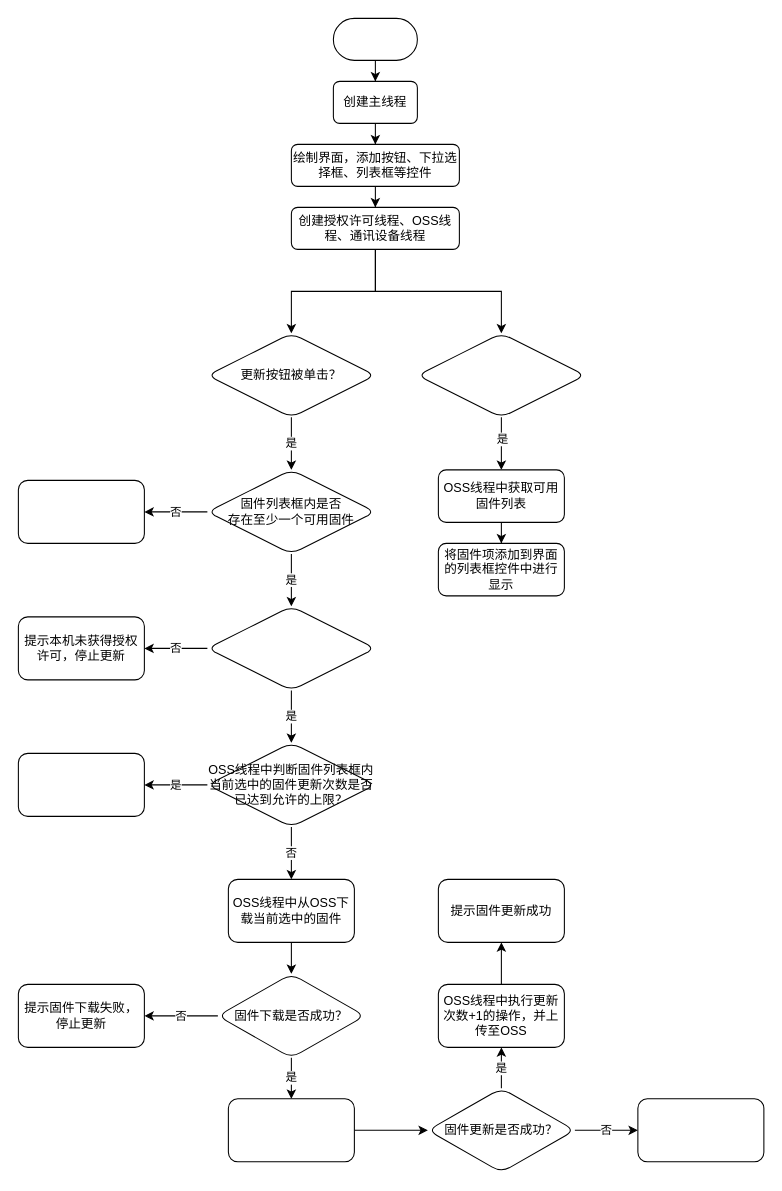
The diagram is 782 pixels wide and 1191 high, and some of its shapes have lost their labels. The shapes that lost their labels are listed below. From the top down, each one's centre as x and y in pixels, then its label:
the point at 374,38: 开始
the point at 500,374: 获取固件按钮被单击？
the point at 80,511: 提示先按下“获取固件”按钮以获取固件列表
the point at 290,647: 授权许可线程中判断 本机是否得到授权许可？
the point at 80,784: 提示已达可更新次数上限，停止更新
the point at 290,1130: 通讯设备线程中使用从OSS下载的固件对硬件设备进行固件更新操作
the point at 700,1130: 提示固件更新失败，停止更新
